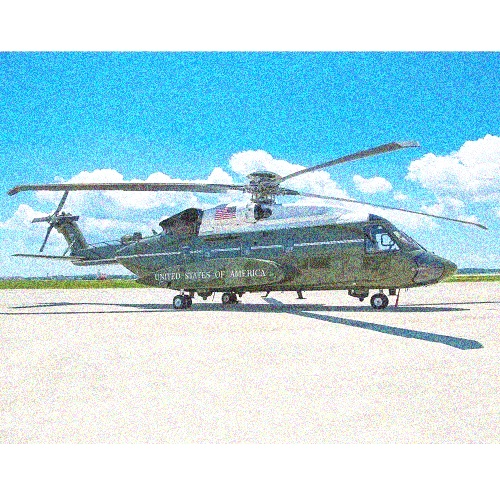Helicopter: (9, 131, 487, 320)
